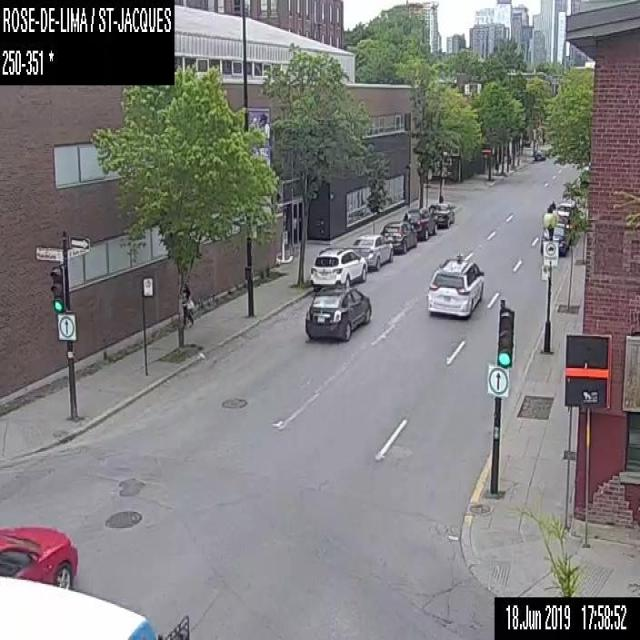bus: (0, 566, 154, 638)
pedestrian: (179, 283, 197, 333)
vehicle: (0, 528, 76, 586), (305, 284, 371, 342), (426, 253, 484, 316), (308, 246, 367, 286), (351, 234, 394, 267), (539, 217, 571, 256), (378, 219, 415, 252), (401, 207, 435, 240), (428, 202, 453, 228), (554, 209, 572, 233), (558, 199, 577, 219), (534, 148, 545, 161)
